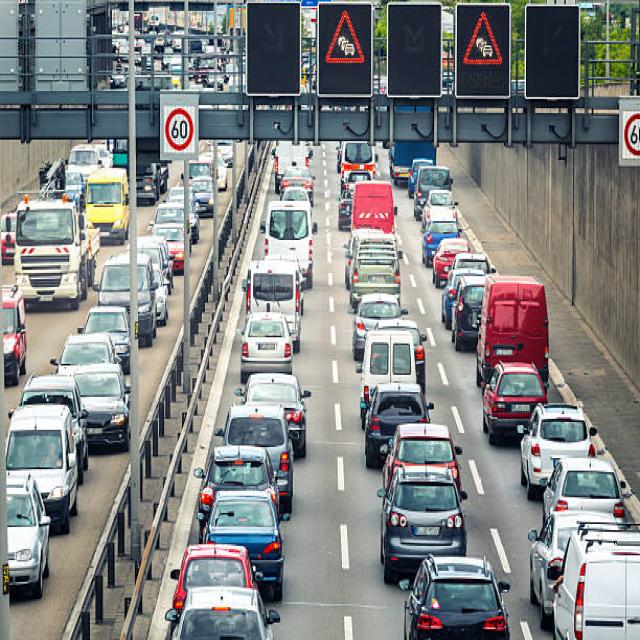Ad-signs: (315, 0, 372, 97)
Car: (377, 464, 468, 584), (202, 488, 284, 601), (403, 554, 510, 638), (518, 401, 596, 499), (168, 541, 260, 615), (234, 372, 312, 458), (164, 585, 280, 639), (381, 422, 463, 497), (542, 456, 625, 526), (5, 470, 50, 598), (482, 361, 547, 444), (239, 310, 293, 382)
